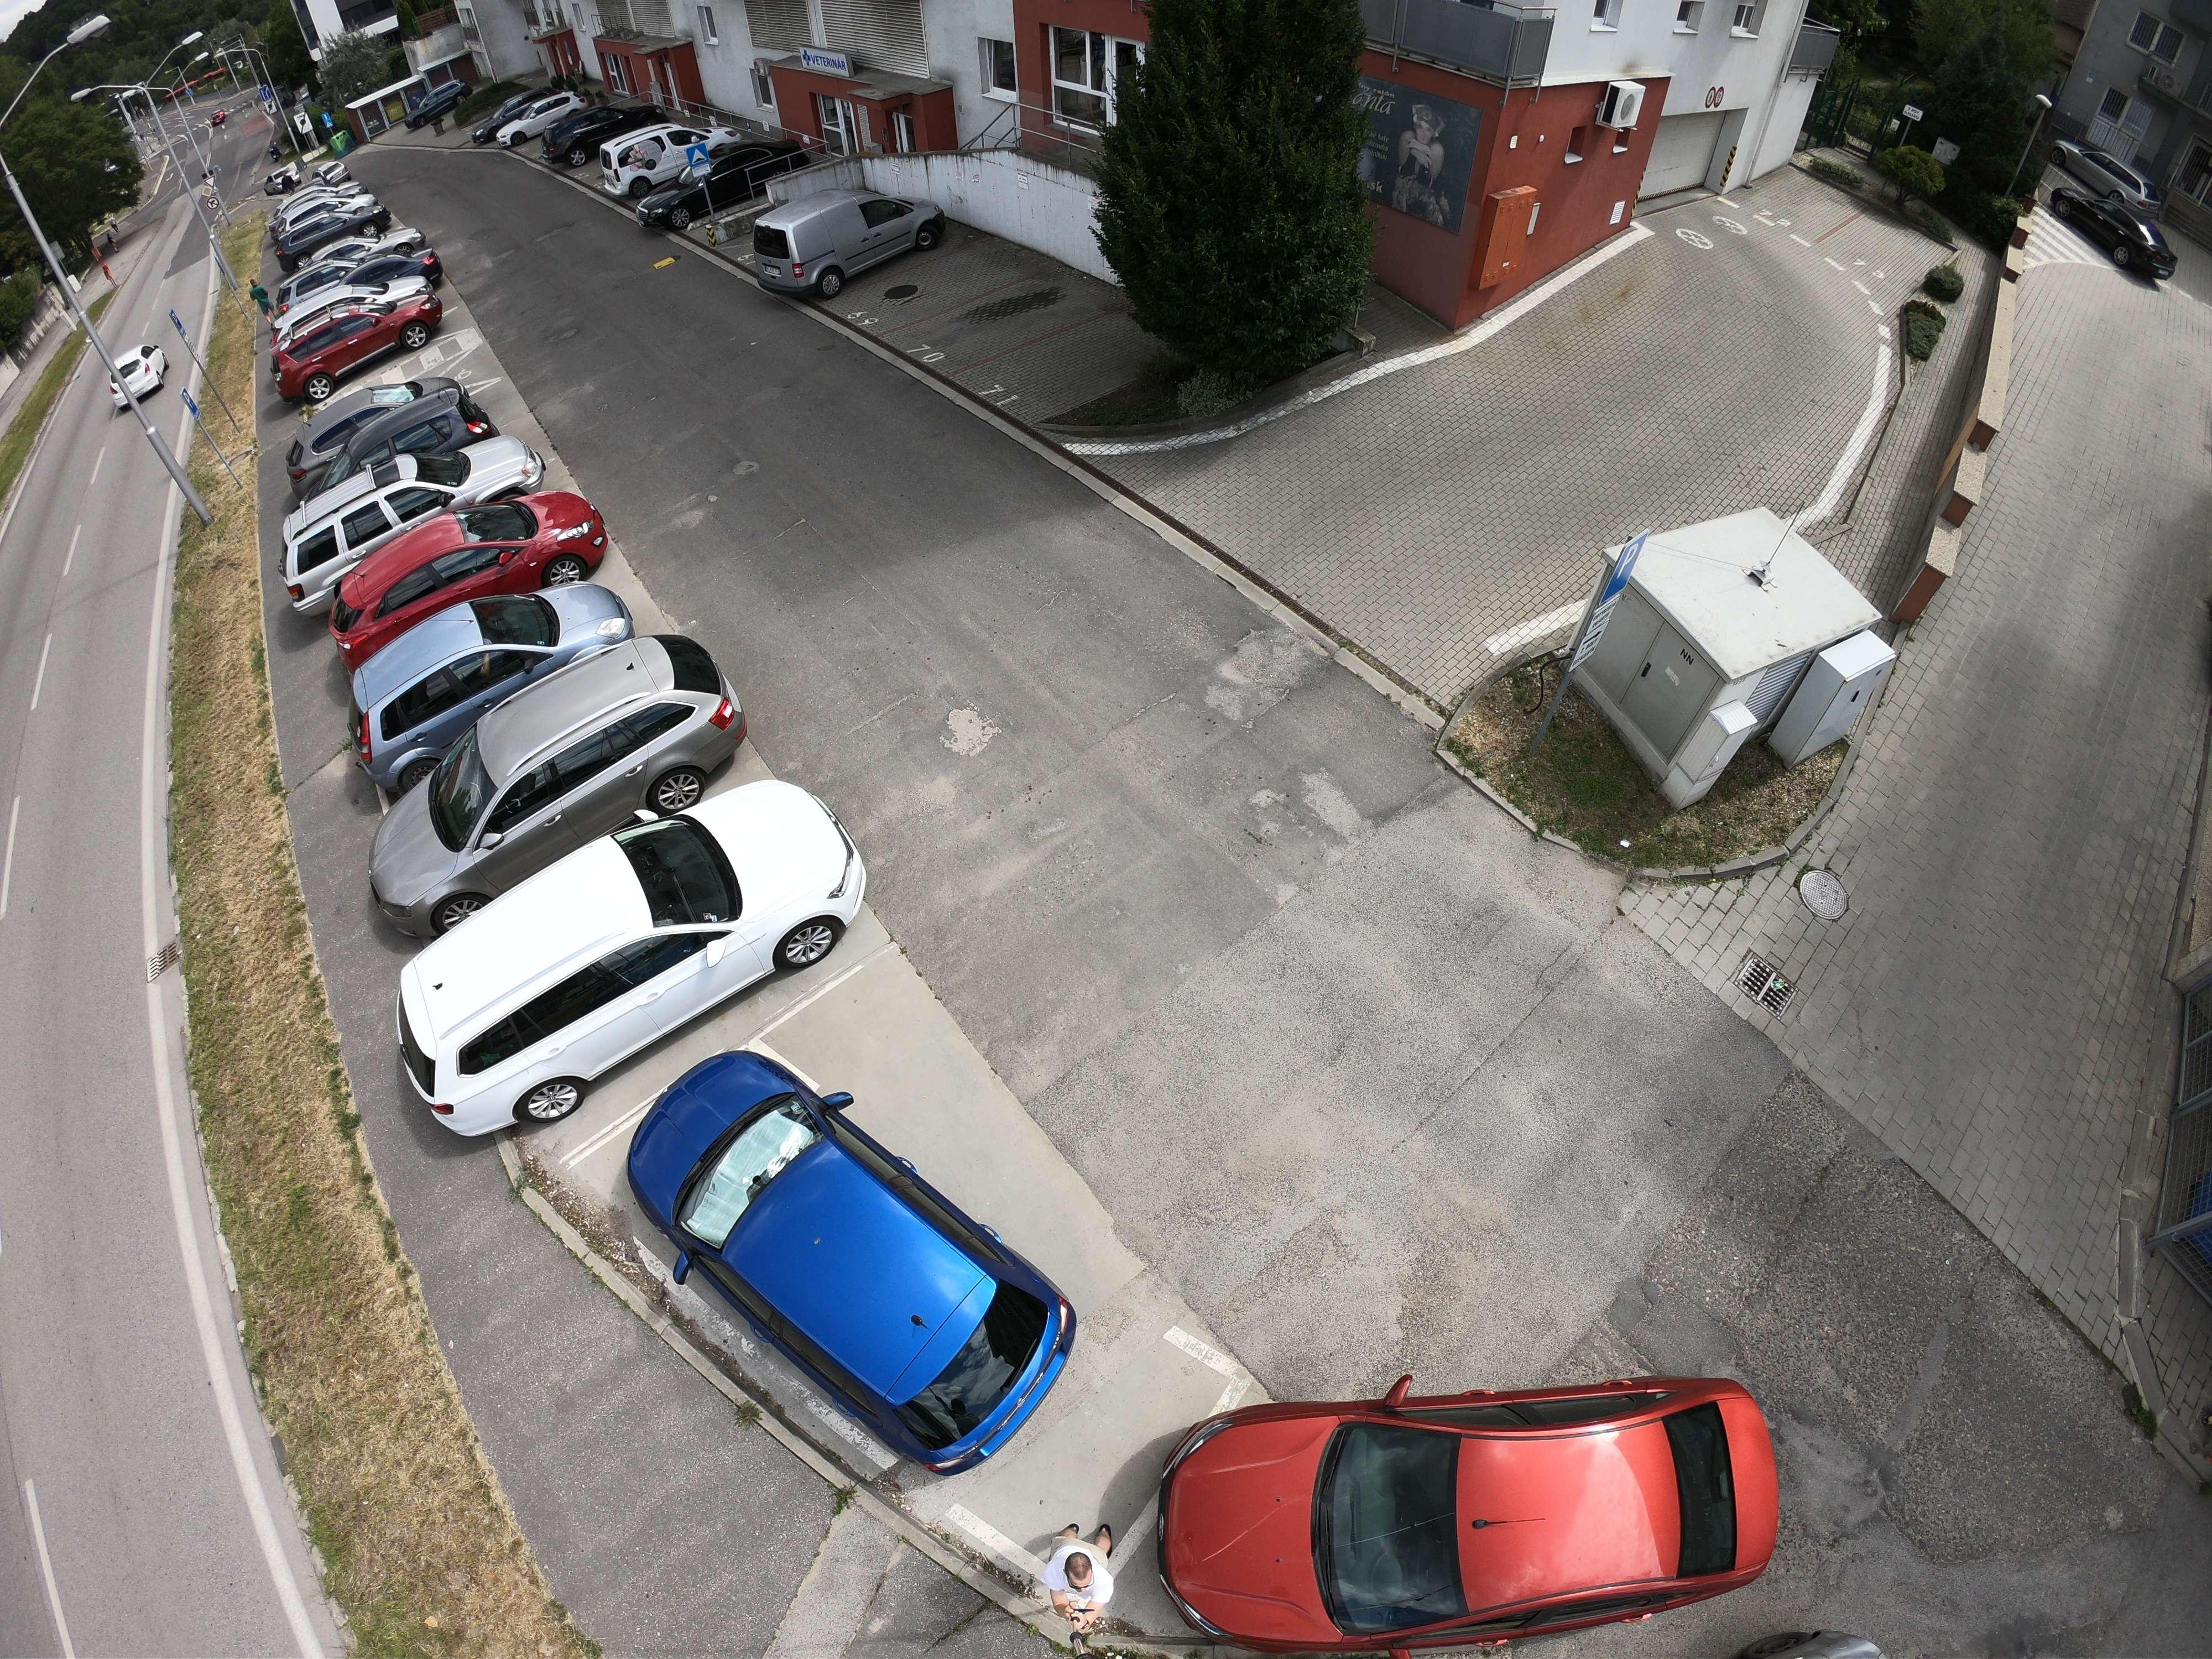empty: (610, 1049, 1108, 1488), (1113, 1375, 1846, 1656), (409, 789, 881, 1126), (390, 647, 754, 878), (368, 577, 683, 756), (308, 495, 618, 631), (738, 181, 951, 300), (289, 382, 503, 488), (622, 131, 813, 223), (266, 293, 442, 392), (2045, 179, 2181, 272), (277, 235, 437, 307)
occupied: (954, 317, 1111, 411), (860, 244, 984, 324)
